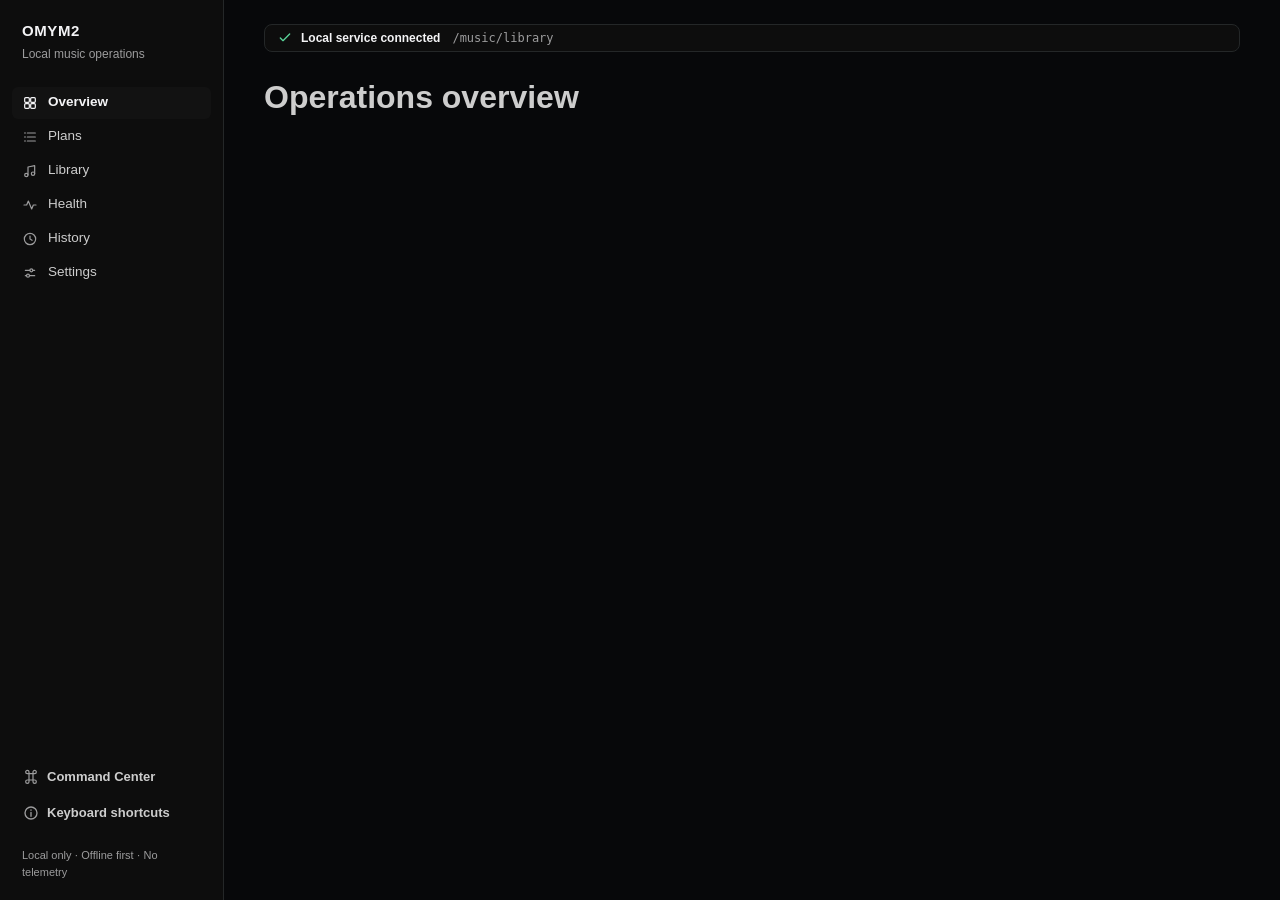
AppShell › keeps an empty Command Center listbox connected to its combobox
The image size is (1280, 900).
Step 1. Click the button "Command Center" → (112, 777), box [12,759,211,795]
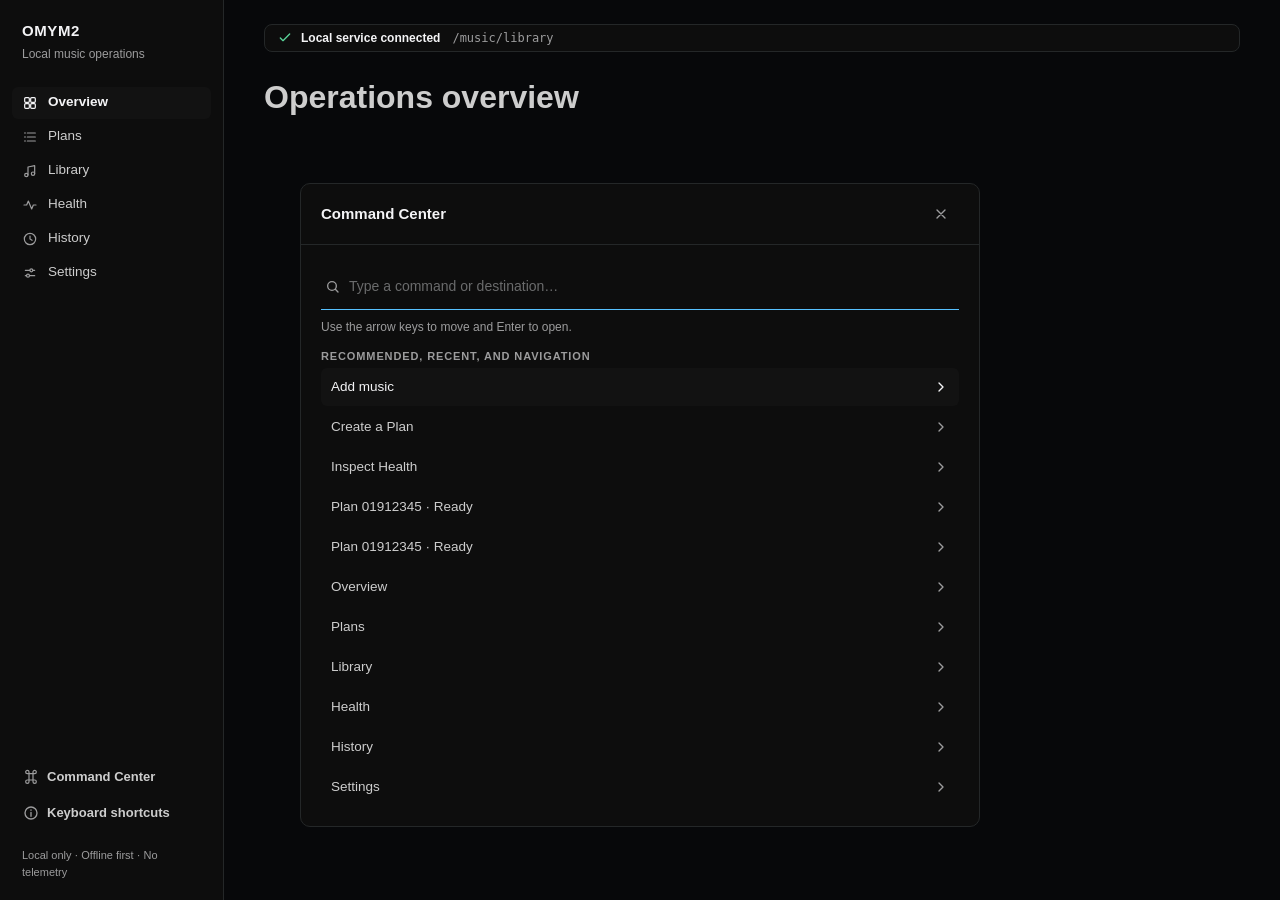
Step 2. Type "no matching destination" into the dropdown named "Search commands and navigation" → (652, 287), box [349,265,955,309]
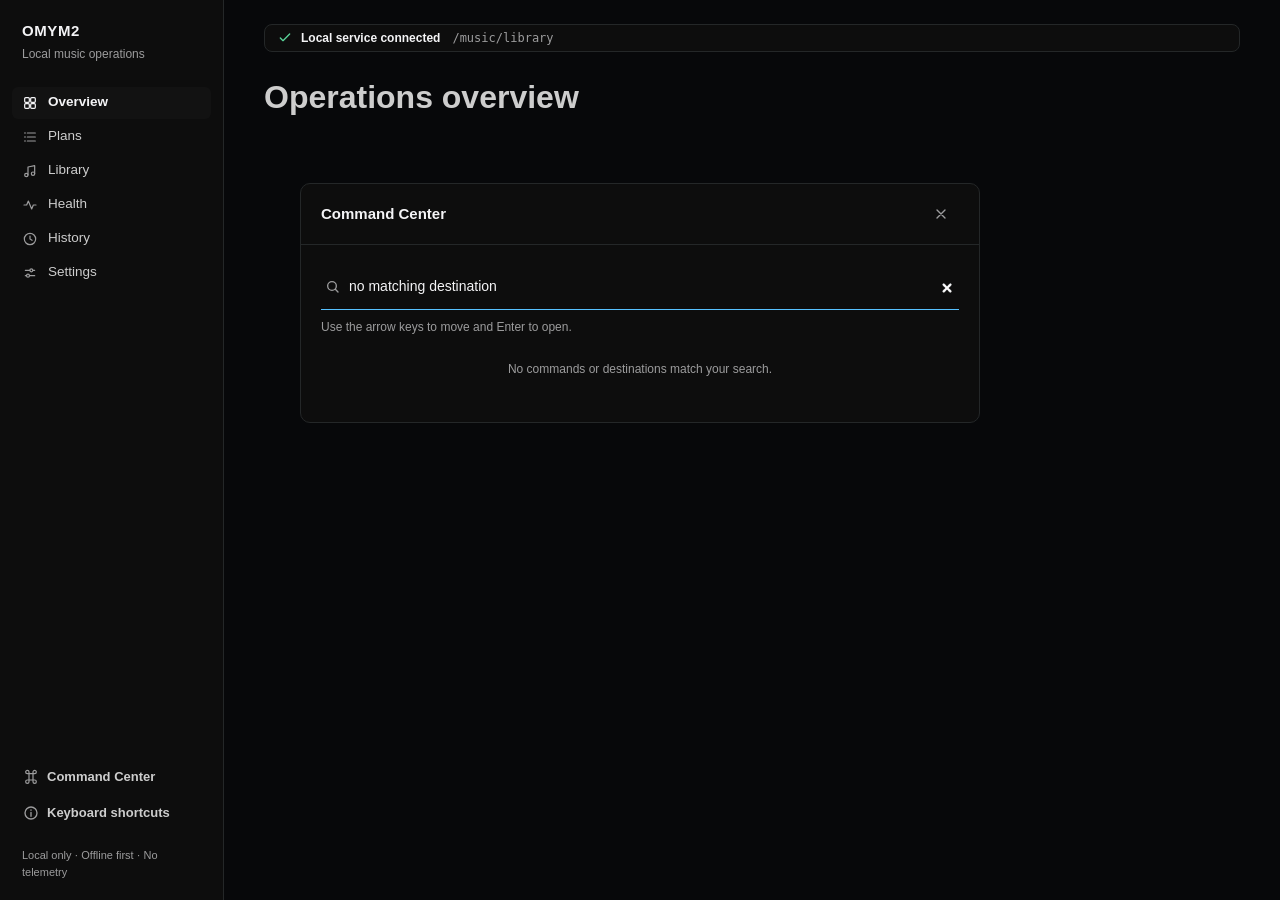
Check: the text "No commands or destinations match your search." is shown, box [508,362,772,376]
